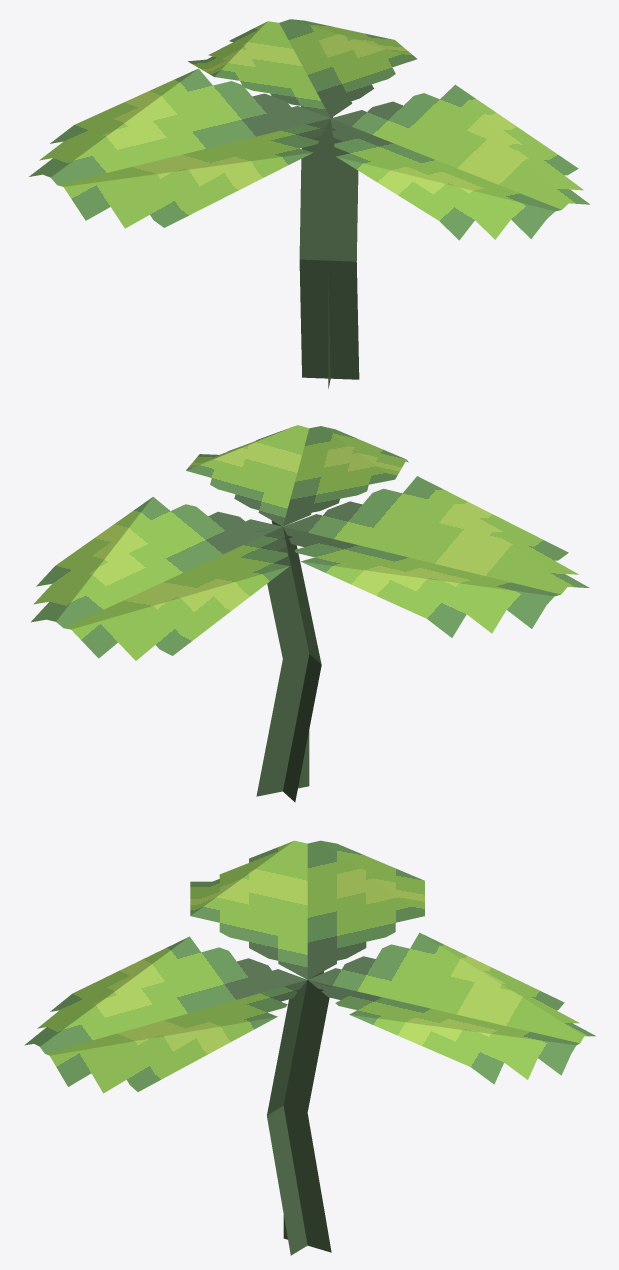
File: clover_leaf.fbx
The picture shows the model from 3 angles, top to bottom: view 1: azimuth 30°, elevation 25°; view 2: azimuth 150°, elevation 25°; view 3: azimuth 270°, elevation 25°; orthographic projection. The views are drawn at different scales.
Visible parts, largest first — view 1: CloverLeaf; view 2: CloverLeaf; view 3: CloverLeaf.
Boxes of the visible parts, x1,y1,x2,y2 form: CloverLeaf: [29, 19, 589, 388]; CloverLeaf: [31, 425, 589, 802]; CloverLeaf: [24, 840, 595, 1255].
Size of the model in its own units: 58.48 by 34.38 by 62.99.
1 material, 1 textured.
